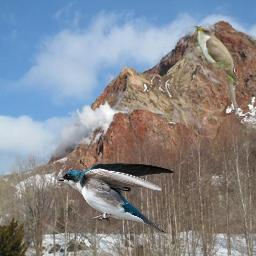Cuckoo: (191, 23, 241, 115)
Swallow: (57, 161, 175, 234)
